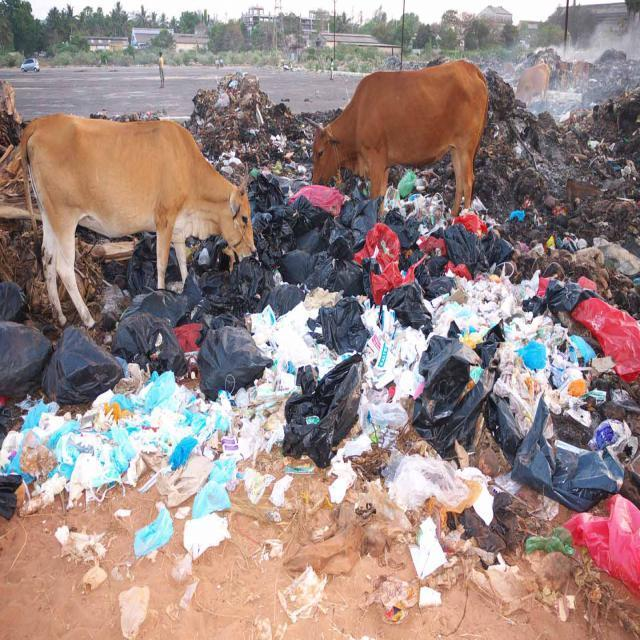Trashbag: (410, 330, 503, 451), (518, 408, 622, 508), (278, 364, 364, 460), (44, 328, 114, 407), (198, 324, 268, 402), (107, 309, 180, 375), (0, 326, 47, 395), (170, 268, 228, 322), (309, 302, 369, 354), (376, 288, 428, 334), (231, 253, 268, 314), (446, 220, 488, 266), (250, 213, 294, 256), (323, 250, 367, 292), (343, 196, 384, 238), (246, 175, 284, 218), (293, 195, 336, 232), (380, 211, 423, 247), (262, 284, 302, 318), (276, 247, 316, 279), (482, 231, 514, 265), (413, 256, 449, 282)
